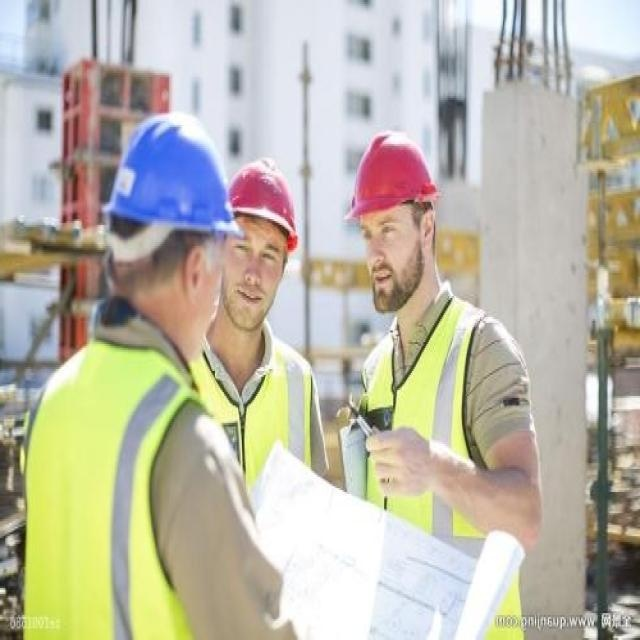Con_Casco: (346, 131, 434, 313)
